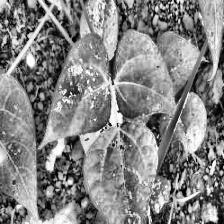ALS: (86, 118, 155, 224), (42, 38, 113, 134)
